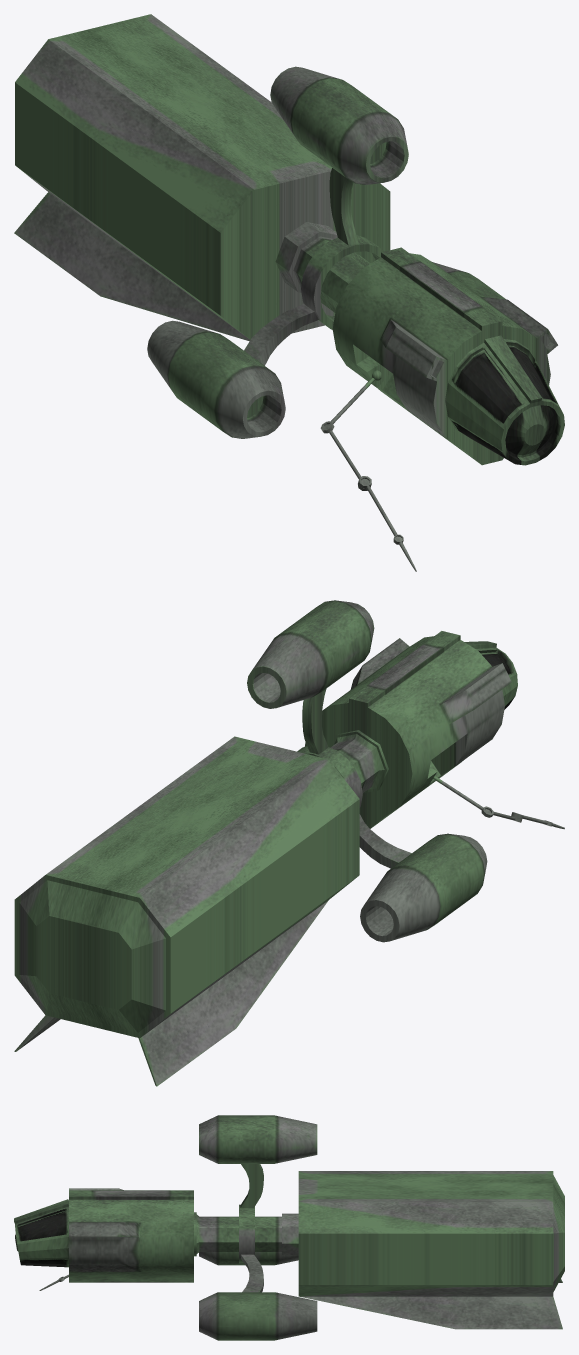
Rendered from mining team 1.FBX.
The picture shows the model from 3 angles, top to bottom: view 1: azimuth 30°, elevation 25°; view 2: azimuth 150°, elevation 25°; view 3: azimuth 270°, elevation 25°; orthographic projection. The views are drawn at different scales.
Parts seen in each view (by area): view 1: mining:Cylinder005; view 2: mining:Cylinder005; view 3: mining:Cylinder005.
Part boxes in pixels (x1,y1,x2,y2): mining:Cylinder005: (14, 14, 564, 571); mining:Cylinder005: (14, 600, 564, 1086); mining:Cylinder005: (14, 1115, 564, 1340).
Bounding box in the file's own units: 66.79 × 66.14 × 162.
Materials: 1 (1 with a texture image).
